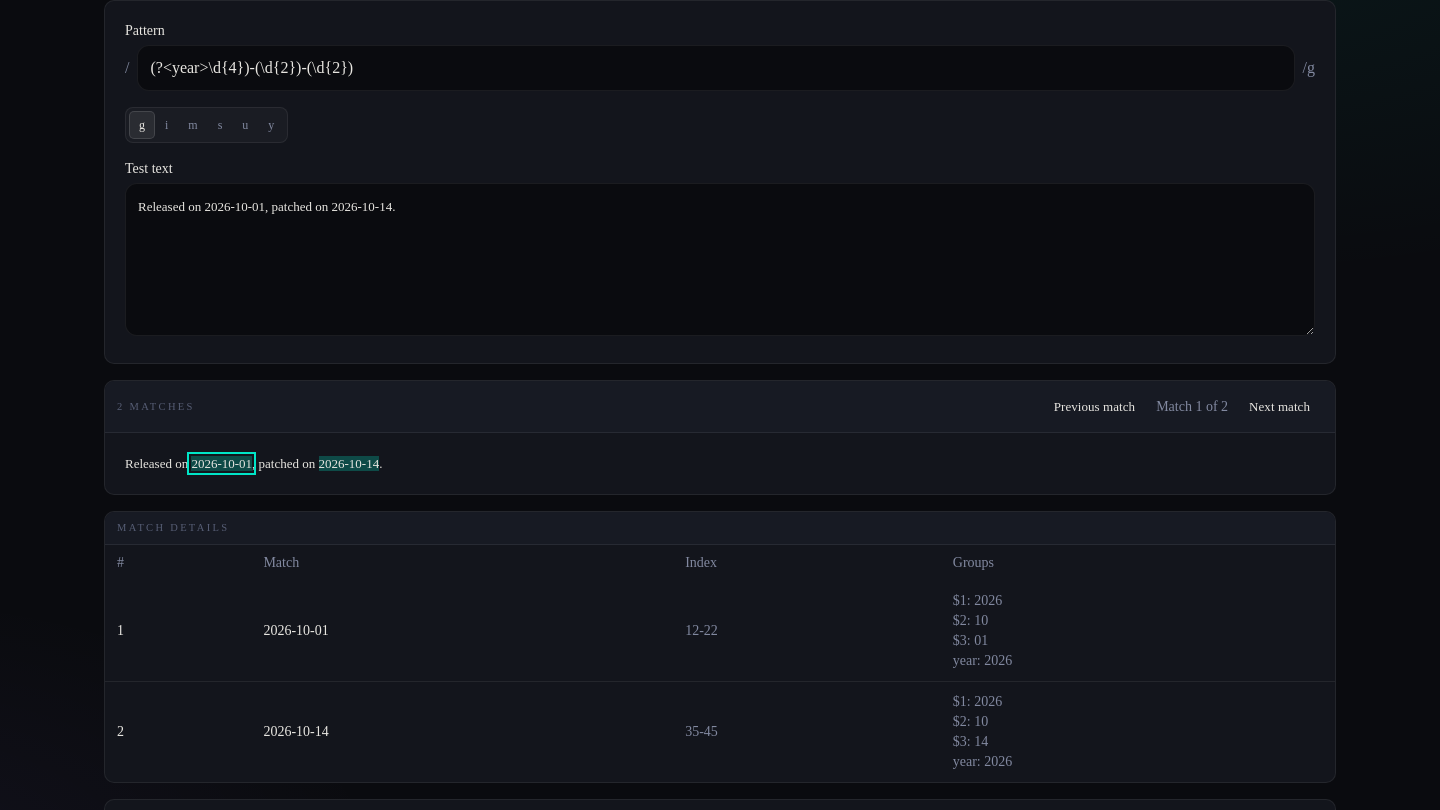
Test case: RegexTesterClient match navigation › moves forward and backward, wrapping in both directions
Click the button "Next match" at x=1280, y=407, box left=1236, top=389, right=1323, bottom=424
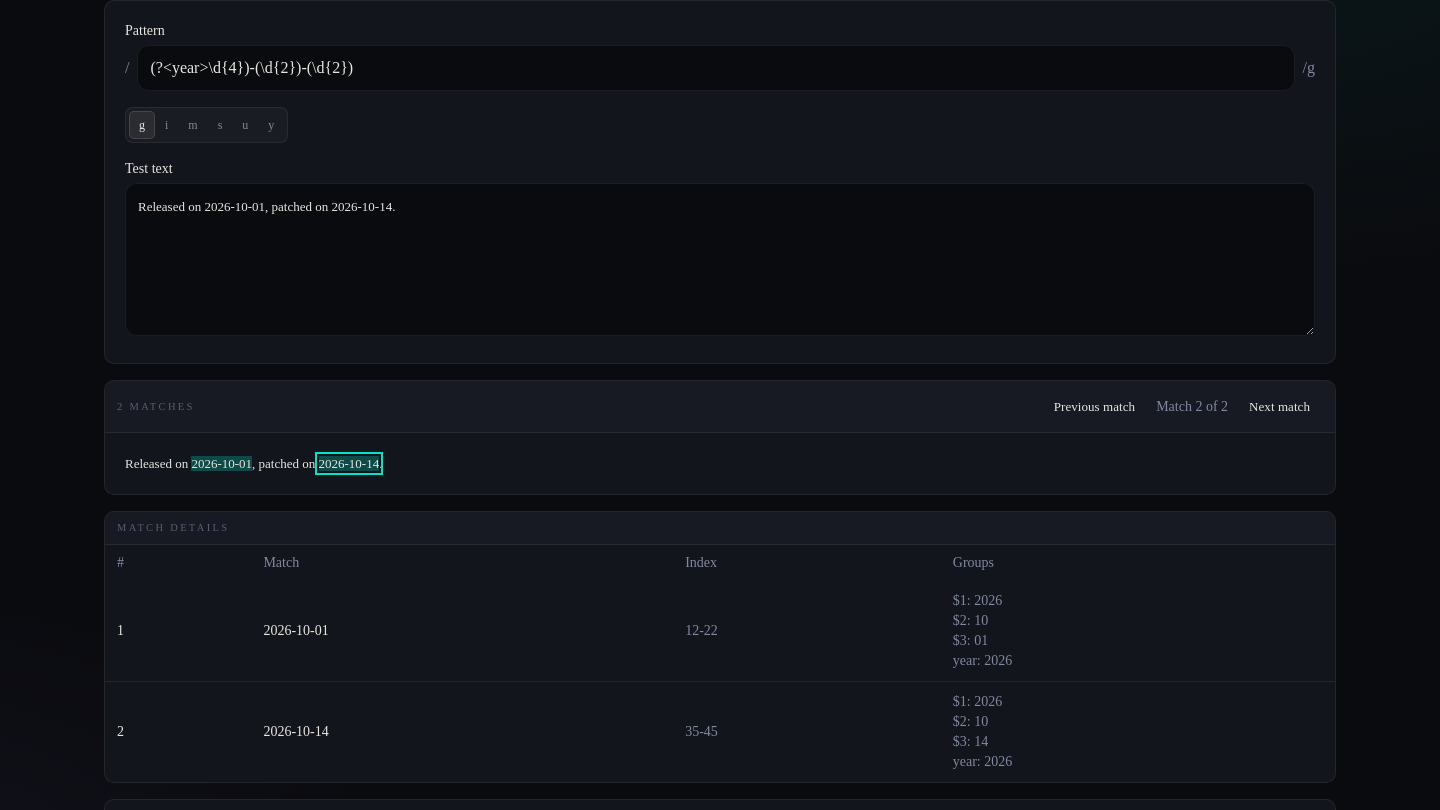
Result: the message named "Match navigation" reads "Match 2 of 2" at left=1156, top=398, right=1228, bottom=414
Click the button "Next match" at x=1280, y=407, box left=1236, top=389, right=1323, bottom=424
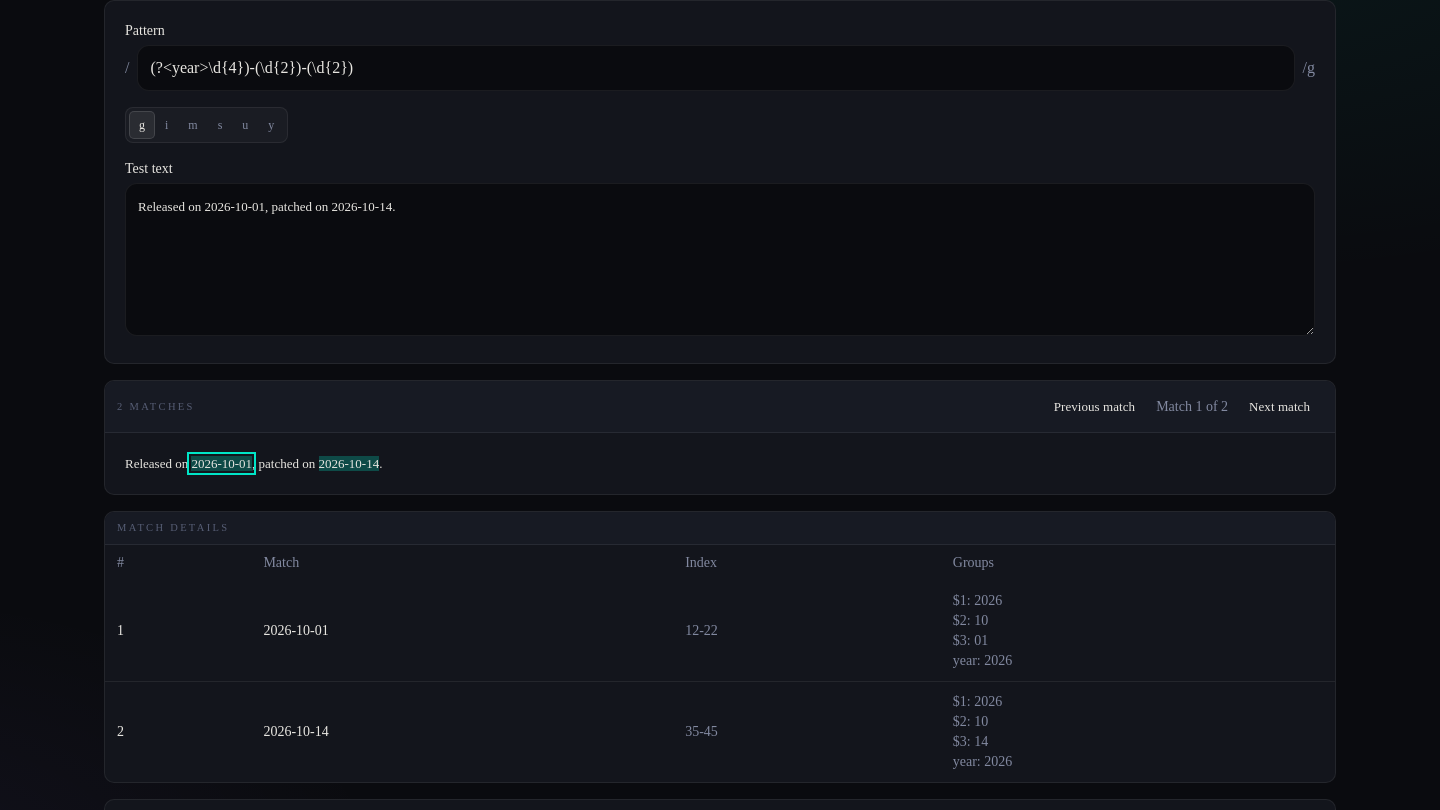
Result: the message named "Match navigation" reads "Match 1 of 2" at left=1156, top=398, right=1228, bottom=414
Click the button "Previous match" at x=1094, y=407, box left=1041, top=389, right=1148, bottom=424
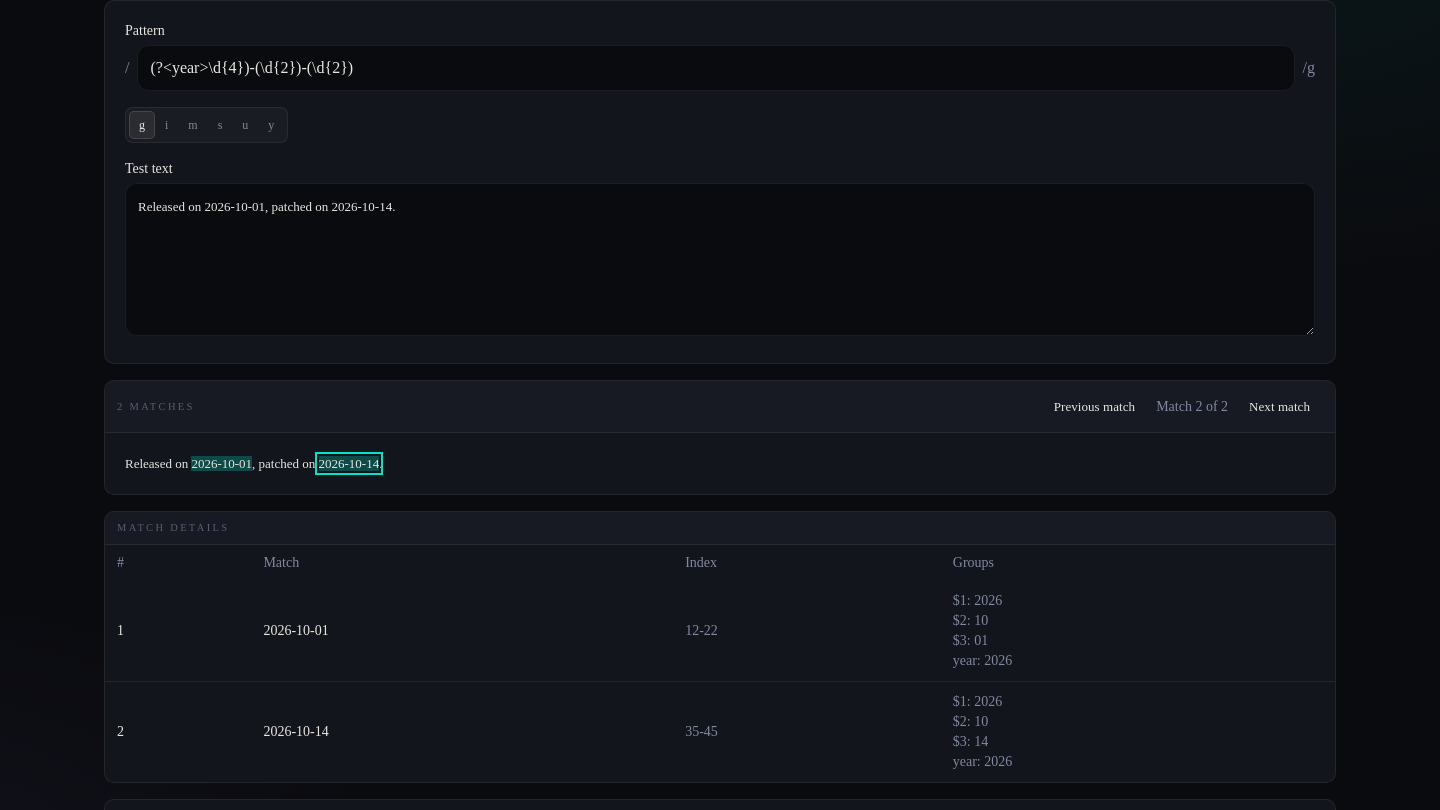
Result: the message named "Match navigation" reads "Match 2 of 2" at left=1156, top=398, right=1228, bottom=414
Click the button "Previous match" at x=1094, y=407, box left=1041, top=389, right=1148, bottom=424
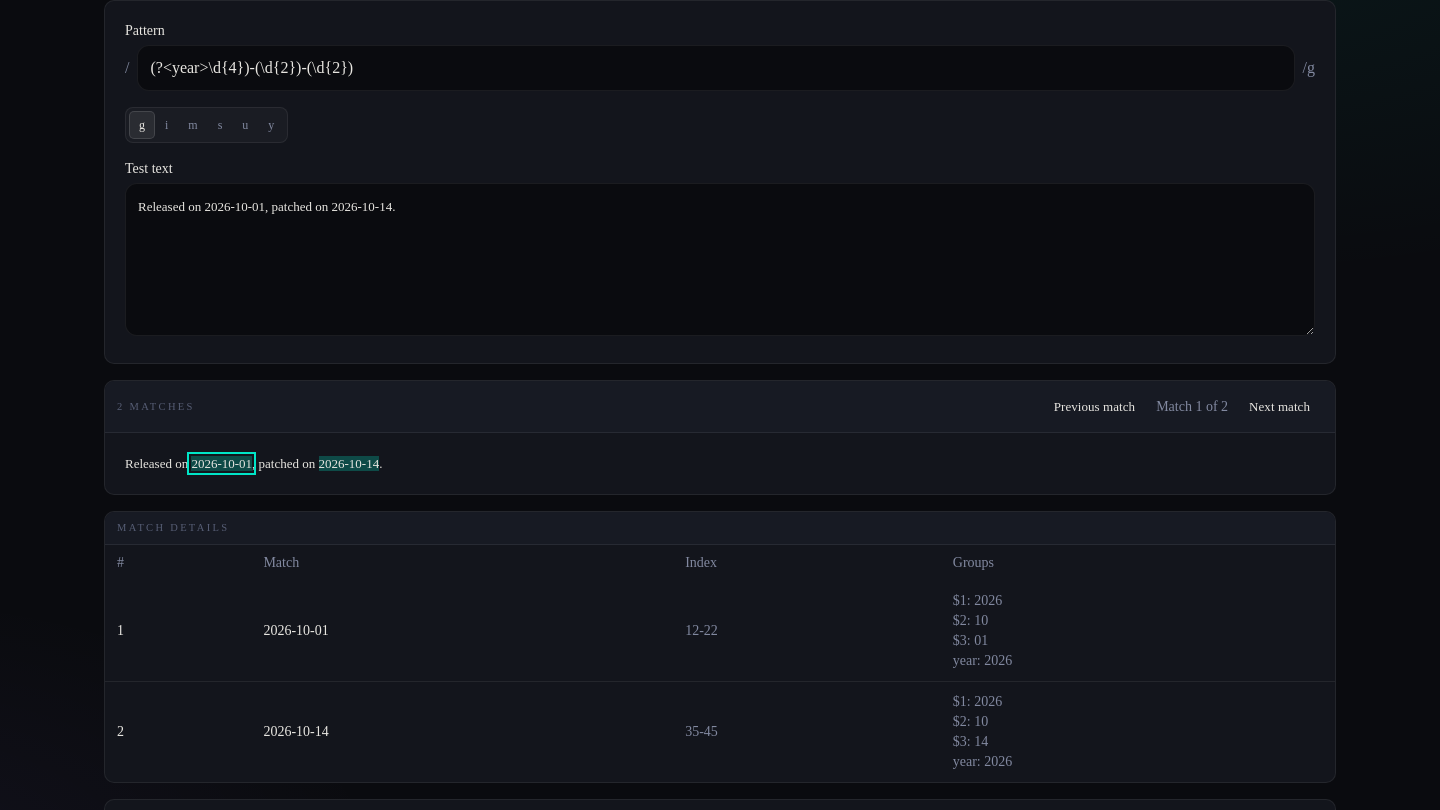
Result: the message named "Match navigation" reads "Match 1 of 2" at left=1156, top=398, right=1228, bottom=414
